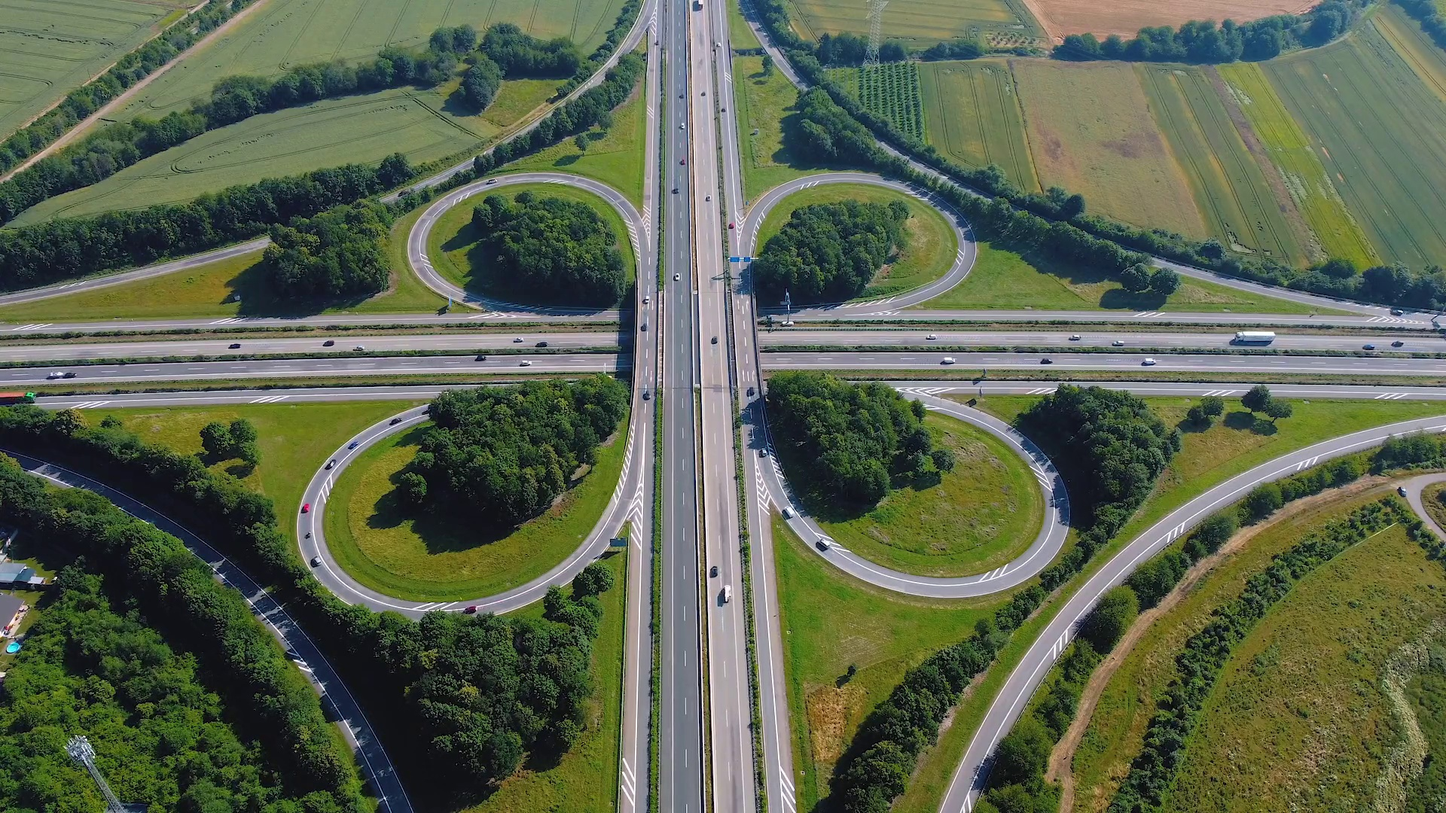Vehicle: (1, 392, 33, 404), (1237, 332, 1274, 342), (782, 505, 796, 519), (723, 584, 732, 603), (817, 538, 829, 549), (463, 605, 477, 614), (1141, 358, 1156, 366), (941, 357, 955, 365), (1397, 487, 1407, 497), (1391, 341, 1404, 348), (389, 418, 402, 425), (314, 554, 322, 565), (759, 445, 767, 456), (348, 441, 360, 448), (322, 340, 334, 347), (64, 372, 77, 378), (1362, 344, 1375, 350), (519, 361, 532, 367), (1040, 358, 1053, 364), (1391, 310, 1404, 316), (712, 335, 719, 346), (1112, 340, 1124, 346), (645, 389, 652, 399), (712, 565, 718, 576), (475, 355, 486, 361), (926, 334, 937, 340), (353, 345, 366, 350), (228, 344, 241, 349), (1068, 336, 1081, 341), (696, 0, 704, 8), (748, 386, 756, 394), (536, 342, 548, 347), (303, 505, 310, 513), (513, 338, 524, 343), (642, 323, 648, 332), (674, 186, 680, 194), (645, 296, 650, 305), (675, 272, 681, 279), (488, 179, 498, 183), (705, 195, 711, 201), (328, 461, 333, 468), (701, 91, 707, 96), (729, 223, 734, 229), (681, 158, 686, 164), (680, 124, 685, 129), (655, 39, 660, 44), (680, 93, 684, 98), (717, 42, 721, 47), (722, 107, 726, 111)
